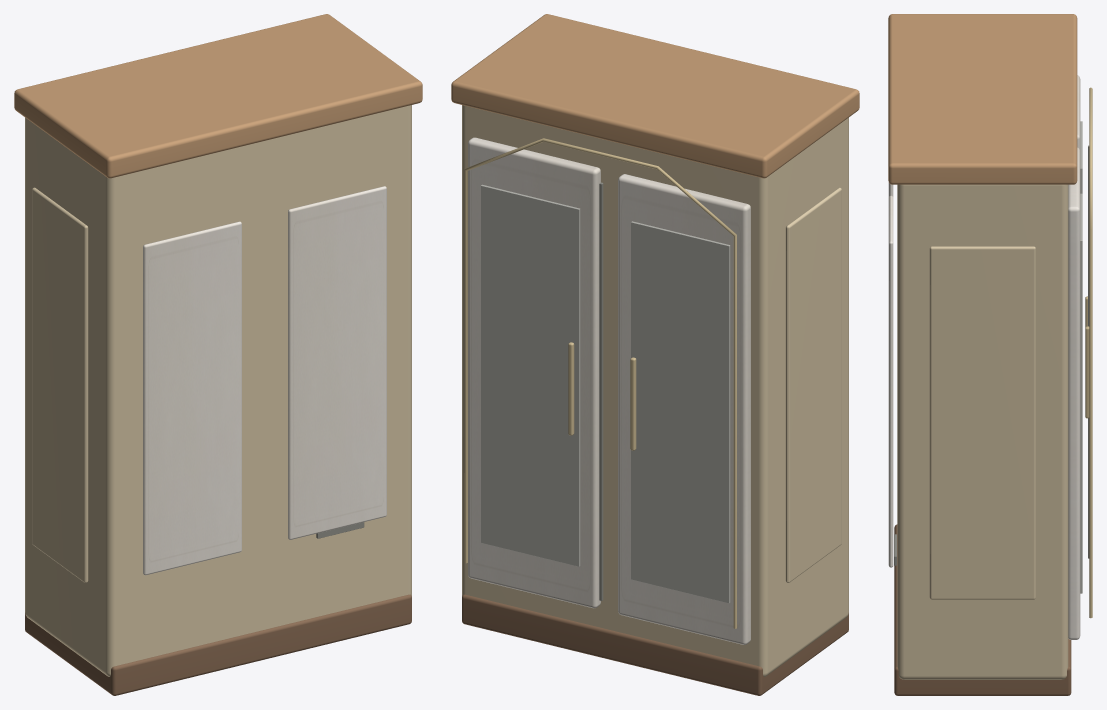
The model's file is room_l2_img2_scanner_wardrobe.glb.
3 views of the same model, side by side, from view 1: azimuth 30°, elevation 25°; view 2: azimuth 150°, elevation 25°; view 3: azimuth 270°, elevation 25° (orthographic).
Parts seen in each view (by area): view 1: wardrobe_outer_light_oak_case, wardrobe_thin_soft_top_cornice, wardrobe_rear_left_large_cabinet_inset, wardrobe_rear_right_large_cabinet_inset, wardrobe_left_side_broad_oak_panel, wardrobe_recessed_floor_plinth; view 2: wardrobe_outer_light_oak_case, wardrobe_thin_soft_top_cornice, wardrobe_inner_panel_reveal_+0.3, wardrobe_inner_panel_reveal_-0.3, wardrobe_recessed_tall_door_+0.3, wardrobe_recessed_tall_door_-0.3, wardrobe_left_side_broad_oak_panel, wardrobe_recessed_floor_plinth, wardrobe_arched_gallery_front_trim, wardrobe_over_regular_center_shadow_gap, wardrobe_small_vertical_handle_+0.1, wardrobe_small_vertical_handle_-0.1; view 3: wardrobe_outer_light_oak_case, wardrobe_right_side_broad_oak_panel, wardrobe_thin_soft_top_cornice, wardrobe_recessed_tall_door_+0.3, wardrobe_recessed_floor_plinth, wardrobe_rear_right_large_cabinet_inset, wardrobe_arched_gallery_front_trim, wardrobe_inner_panel_reveal_+0.3, wardrobe_over_regular_center_shadow_gap, wardrobe_small_vertical_handle_+0.1.
Part boxes in pixels (x1,y1,x2,y2): wardrobe_outer_light_oak_case: (25, 105, 411, 676); wardrobe_thin_soft_top_cornice: (14, 14, 422, 178); wardrobe_rear_left_large_cabinet_inset: (143, 221, 241, 575); wardrobe_rear_right_large_cabinet_inset: (288, 186, 386, 539); wardrobe_left_side_broad_oak_panel: (32, 187, 88, 582); wardrobe_recessed_floor_plinth: (25, 594, 411, 695); wardrobe_outer_light_oak_case: (462, 105, 848, 676); wardrobe_thin_soft_top_cornice: (451, 14, 859, 178); wardrobe_inner_panel_reveal_+0.3: (481, 184, 580, 566); wardrobe_inner_panel_reveal_-0.3: (631, 221, 730, 603); wardrobe_recessed_tall_door_+0.3: (468, 137, 600, 608); wardrobe_recessed_tall_door_-0.3: (618, 174, 750, 644); wardrobe_left_side_broad_oak_panel: (785, 187, 841, 582); wardrobe_recessed_floor_plinth: (462, 594, 848, 695); wardrobe_arched_gallery_front_trim: (464, 138, 737, 628); wardrobe_over_regular_center_shadow_gap: (599, 182, 603, 600); wardrobe_small_vertical_handle_+0.1: (568, 342, 574, 435); wardrobe_small_vertical_handle_-0.1: (630, 357, 636, 450); wardrobe_outer_light_oak_case: (897, 184, 1068, 679); wardrobe_right_side_broad_oak_panel: (929, 246, 1035, 599); wardrobe_thin_soft_top_cornice: (888, 14, 1077, 184); wardrobe_recessed_tall_door_+0.3: (1068, 147, 1080, 639); wardrobe_recessed_floor_plinth: (894, 524, 1071, 695); wardrobe_rear_right_large_cabinet_inset: (888, 195, 893, 567); wardrobe_arched_gallery_front_trim: (1089, 87, 1092, 618); wardrobe_inner_panel_reveal_+0.3: (1080, 193, 1082, 593); wardrobe_over_regular_center_shadow_gap: (1088, 145, 1089, 558); wardrobe_small_vertical_handle_+0.1: (1085, 326, 1089, 418).
Bounding box in the file's own units: 1.24 × 2.01 × 0.6917.
7 materials, 1 textured.
